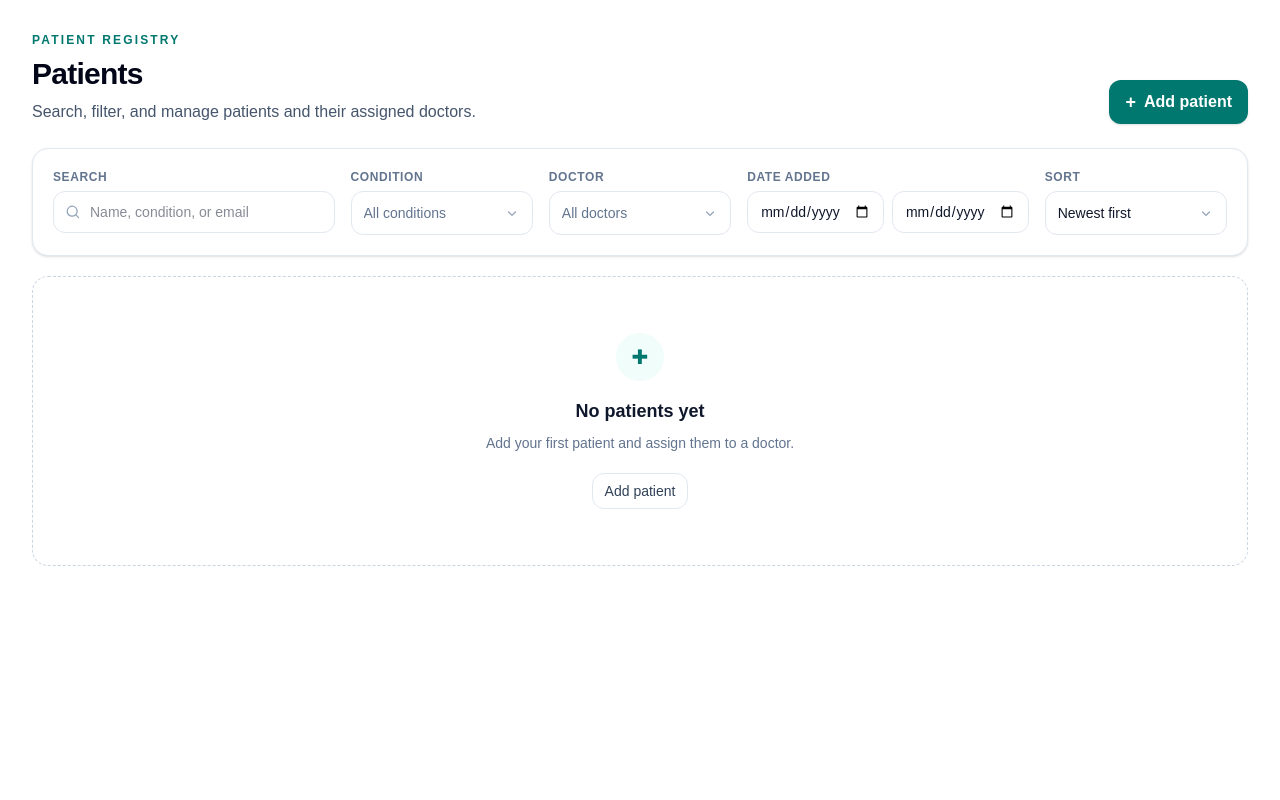
Test: PatientsManager list › shows distinct empty states
The image size is (1280, 800).
Expected: the heading "No patients yet" is shown, [576,401,704,421]
Type "zzz" into the search field named "Search patients".
click(194, 212); type("zzz")  # box [53,191,334,233]
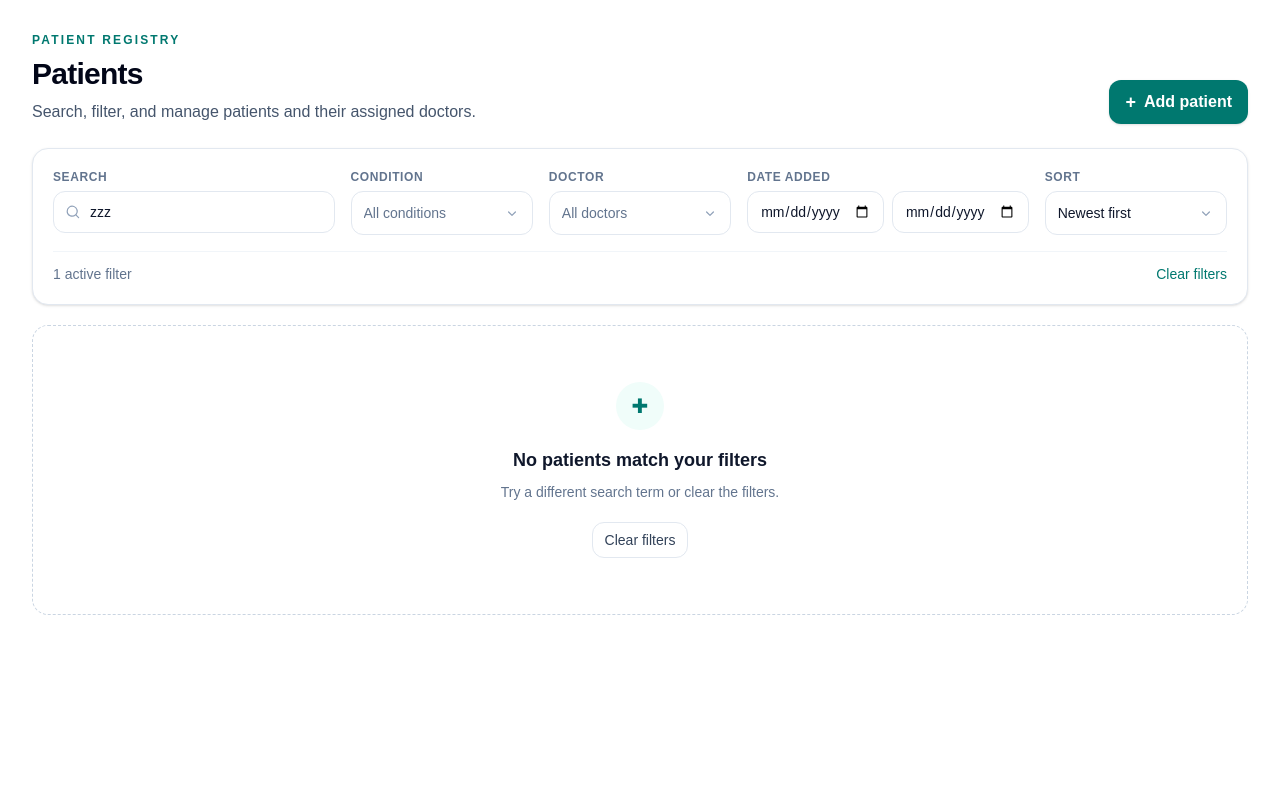
Expected: the heading "No patients match your filters" is shown, [513,450,767,470]
